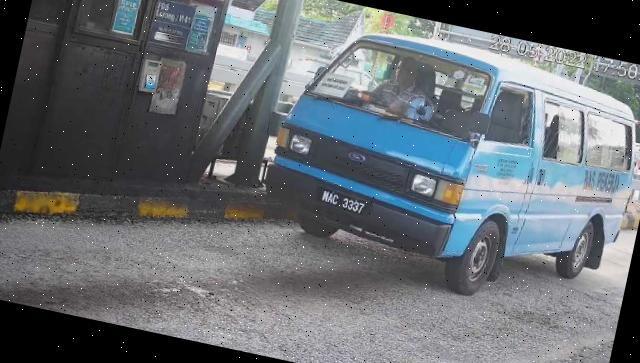License_Plate: (312, 185, 376, 223)
van: (250, 10, 640, 327)
